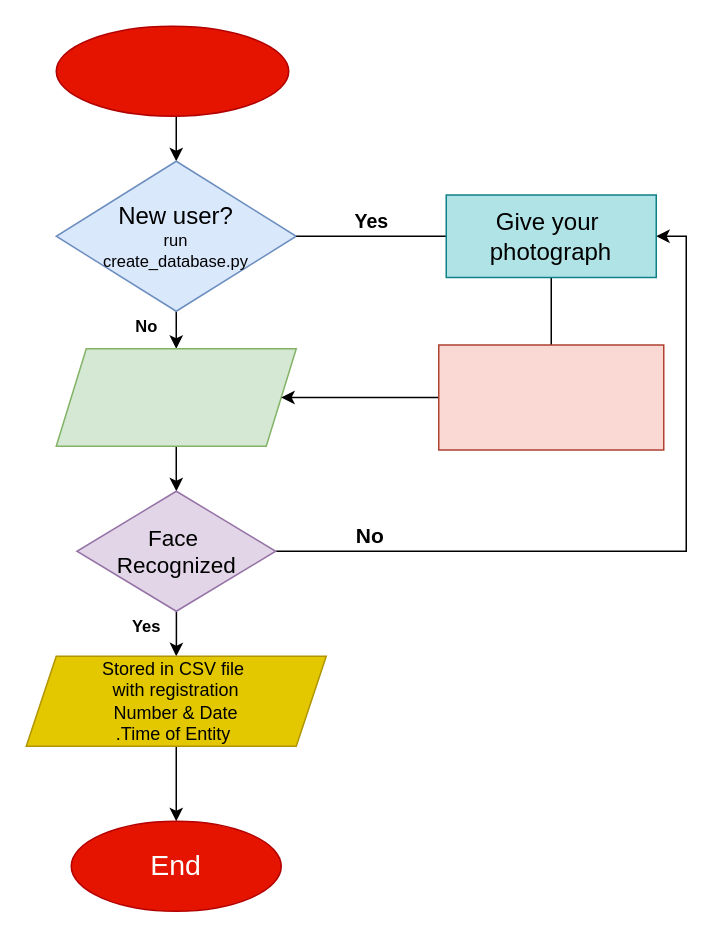
Image size: 725x938. Some labels were removed from this diagram. The shapes that lost their labels are listed below. From the top down, each one's centre as x and y in pixels, then its label:
At pixel 172 70: "Start".
At pixel 175 396: "Recognize the face run face_recognize.py".
At pixel 550 397: "Store the face data in folder on your name".
